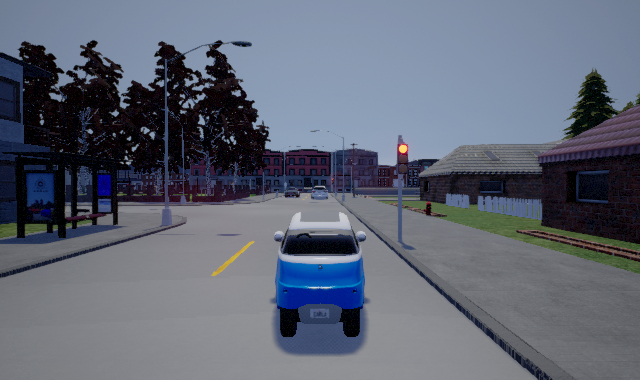traffic_light: (397, 142, 408, 176)
vehicle: (274, 211, 366, 337), (310, 185, 329, 201), (284, 188, 299, 198)
